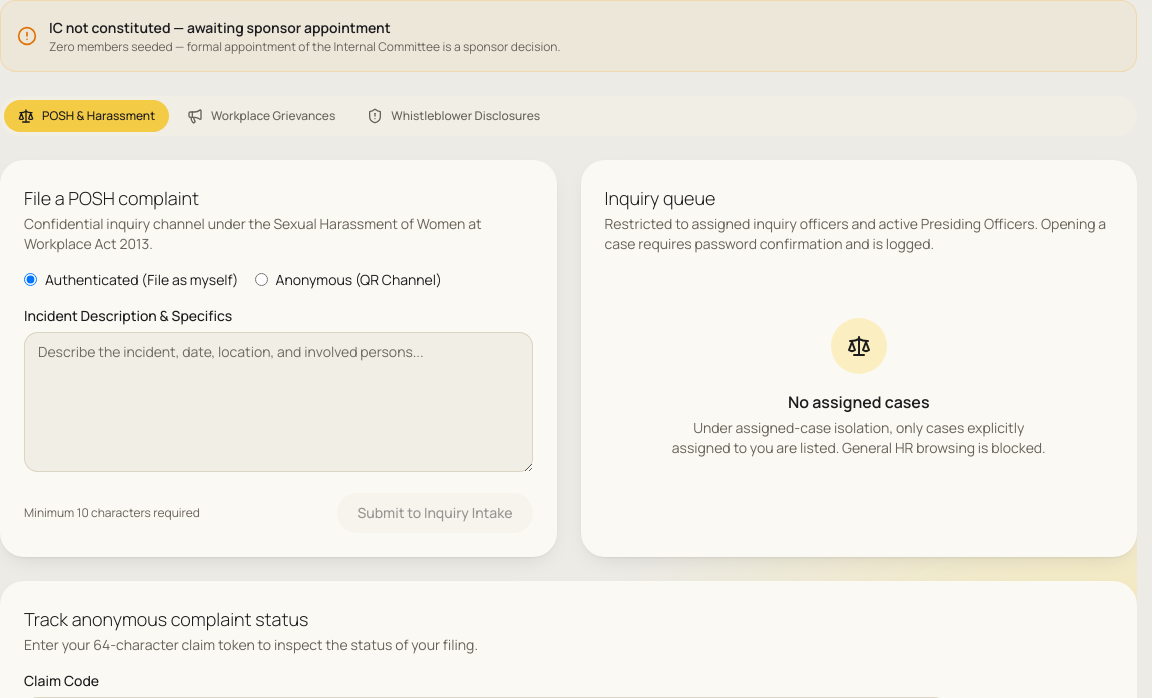
Scenario: IrdCompliancePanels › generates a 64-char claim code for anonymous filings
The width and height of the screenshot is (1152, 698).
Click the radio button labelled "Anonymous (QR Channel)". click: (261, 280)
box: [254,273,268,286]
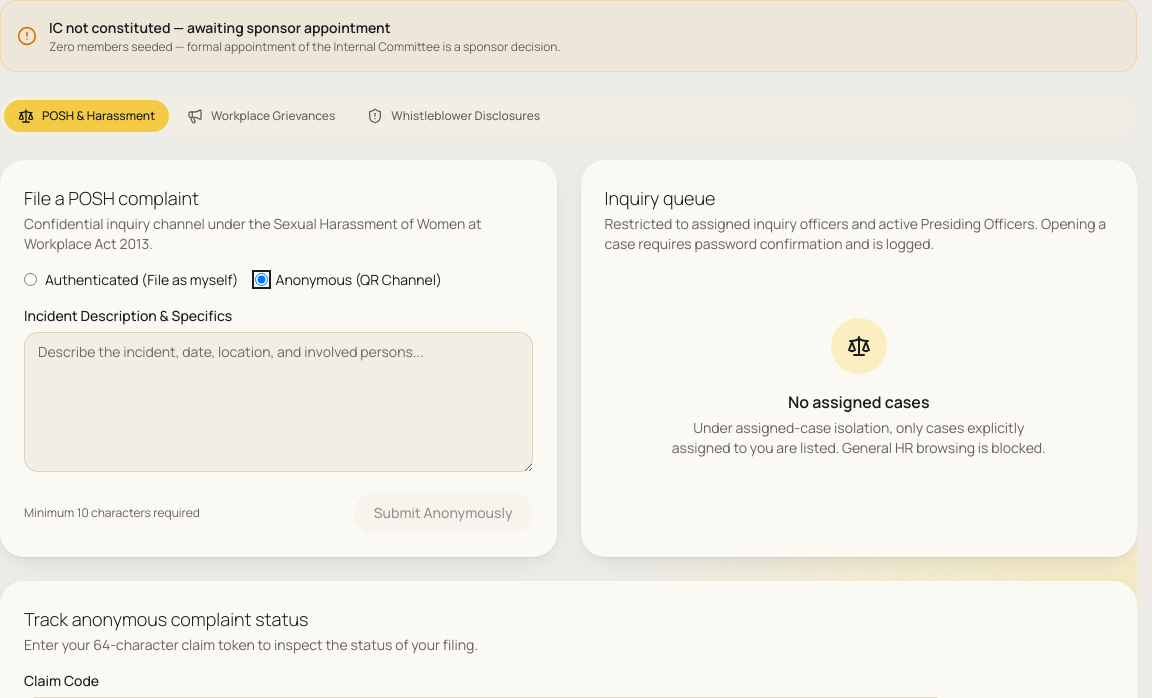
Type "Anonymous disclosure regarding safety and harassment at plant gate 2." into the text box labelled "Incident Description & Specifics". click: (278, 402)
box: [24,332,532,472]
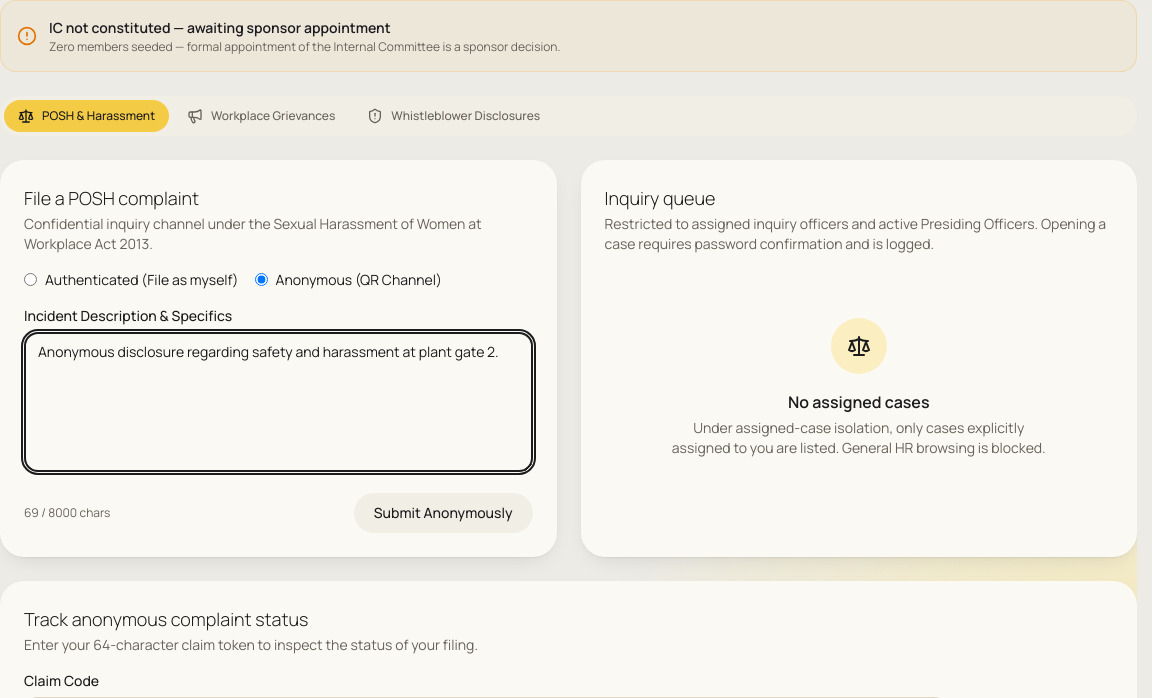
Click the button "Submit Anonymously". click: (443, 513)
box: [354,493,532,533]
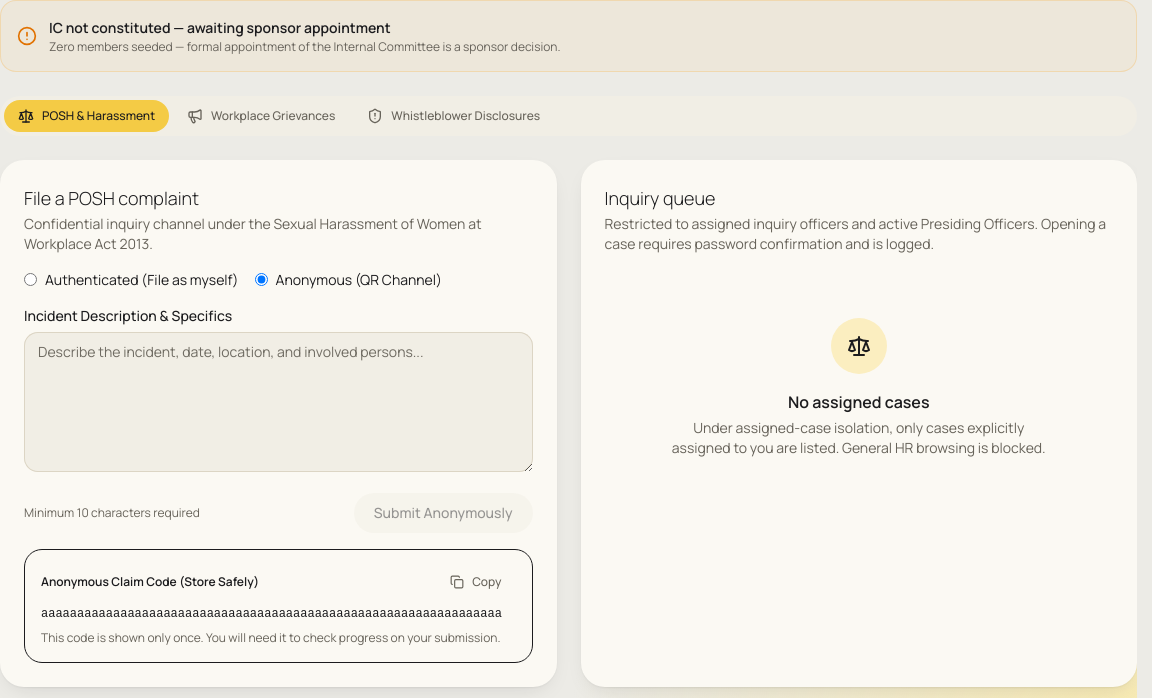
expect the text "Anonymous Claim Code (Store Safely)" is shown: met, box [41,574,259,590]
